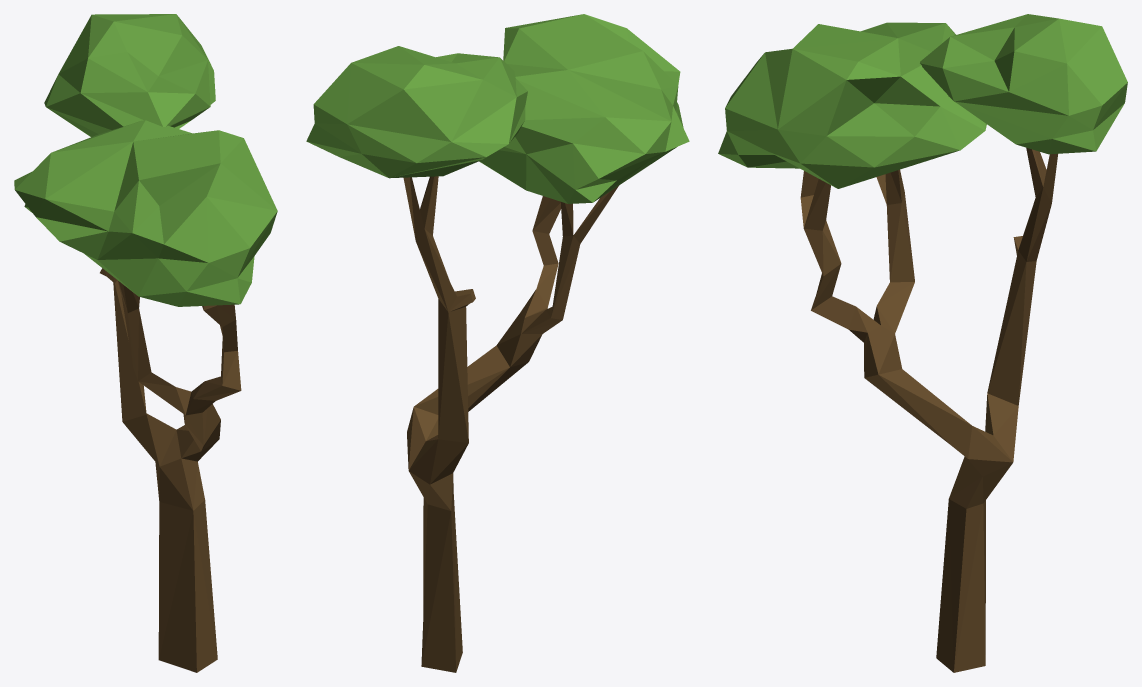
The model's file is Env_Tree04.fbx.
3 renders of one model, left to right at view 1: azimuth 30°, elevation 25°; view 2: azimuth 150°, elevation 25°; view 3: azimuth 270°, elevation 25°, orthographic. The views are drawn at different scales.
Parts seen in each view (by area): view 1: Env_Tree04; view 2: Env_Tree04; view 3: Env_Tree04.
Boxes of the visible parts, x1=… form: Env_Tree04: x1=14, y1=14, x2=277, y2=672; Env_Tree04: x1=306, y1=14, x2=689, y2=672; Env_Tree04: x1=718, y1=14, x2=1127, y2=672.
Size of the model in its own units: 181 by 420 by 248.
Materials: 1 (1 with a texture image).
